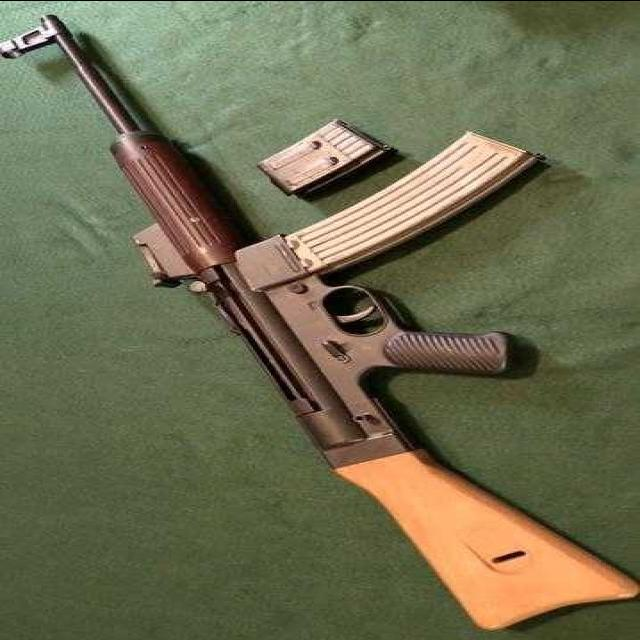heavyweapon: (1, 11, 640, 630)
